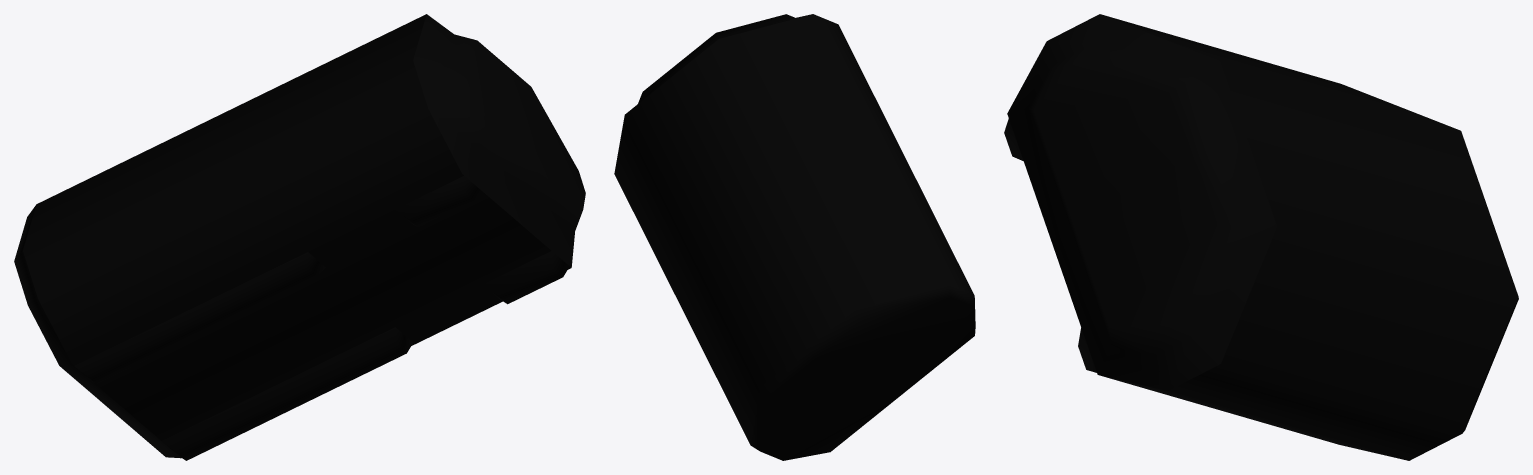
Rendered from hgn_collectable_loot_07.glb.
3 renders of one model, left to right at view 1: azimuth 30°, elevation 25°; view 2: azimuth 150°, elevation 25°; view 3: azimuth 270°, elevation 25°, orthographic. The views are drawn at different scales.
Parts seen in each view (by area): view 1: loot_container_04_a; view 2: loot_container_04_a; view 3: loot_container_04_a.
Part boxes in pixels (<box>): loot_container_04_a: <box>14,14,585,460</box>; loot_container_04_a: <box>614,14,975,460</box>; loot_container_04_a: <box>1004,14,1518,460</box>.
Bounding box in the file's own units: 1.15 × 0.9844 × 0.9188.
Materials: 1 (1 with a texture image).
